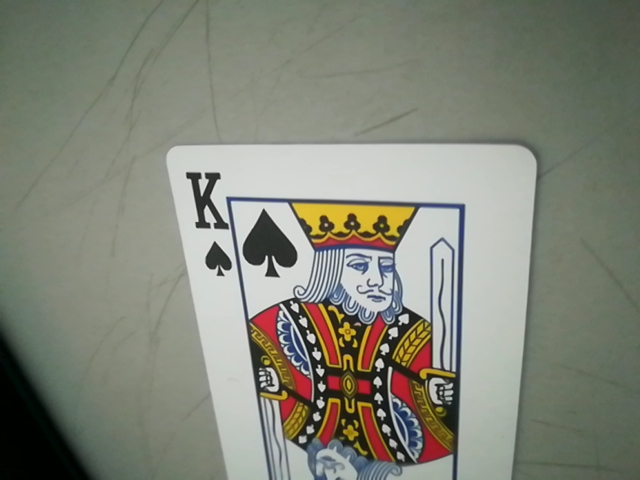ht k: (179, 160, 245, 282)
